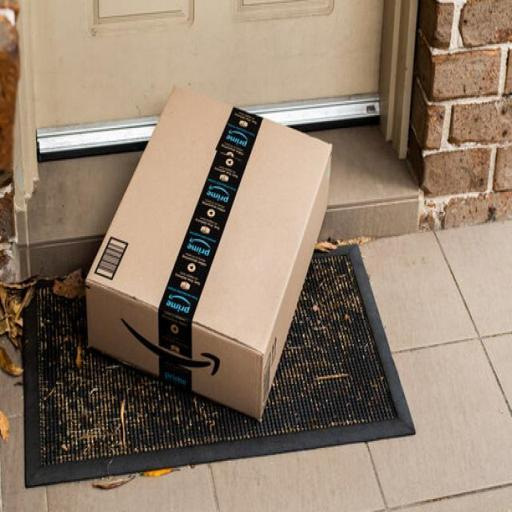Amazon: (77, 85, 340, 429)
